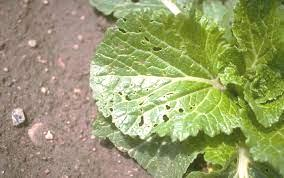Bok-Choy-Diseased: (94, 14, 284, 136)
